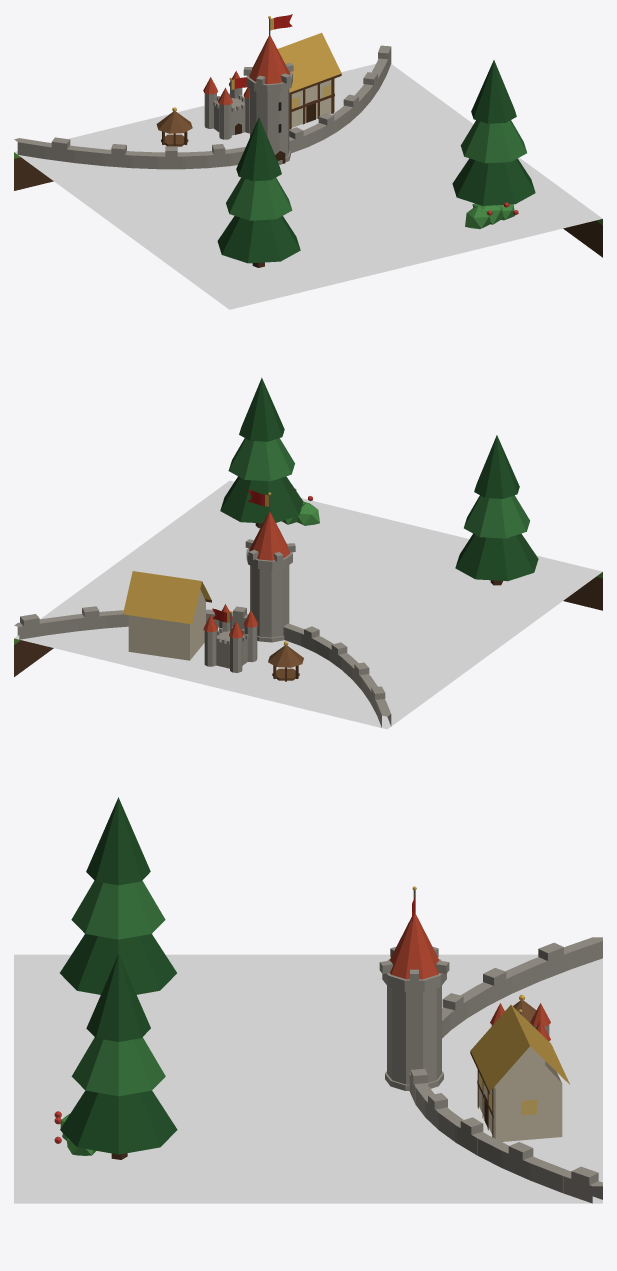
Rendered from xcffr.glb.
The picture shows the model from 3 angles, top to bottom: view 1: azimuth 30°, elevation 25°; view 2: azimuth 150°, elevation 25°; view 3: azimuth 270°, elevation 25°; orthographic projection. The views are drawn at different scales.
Visible parts, largest first — view 1: xcffr; view 2: xcffr; view 3: xcffr.
Boxes of the visible parts, x1,y1,x2,y2 form: xcffr: (14,14,602,309); xcffr: (14,377,602,729); xcffr: (14,797,602,1203).
Size of the model in its own units: 2 by 0.96 by 2.
